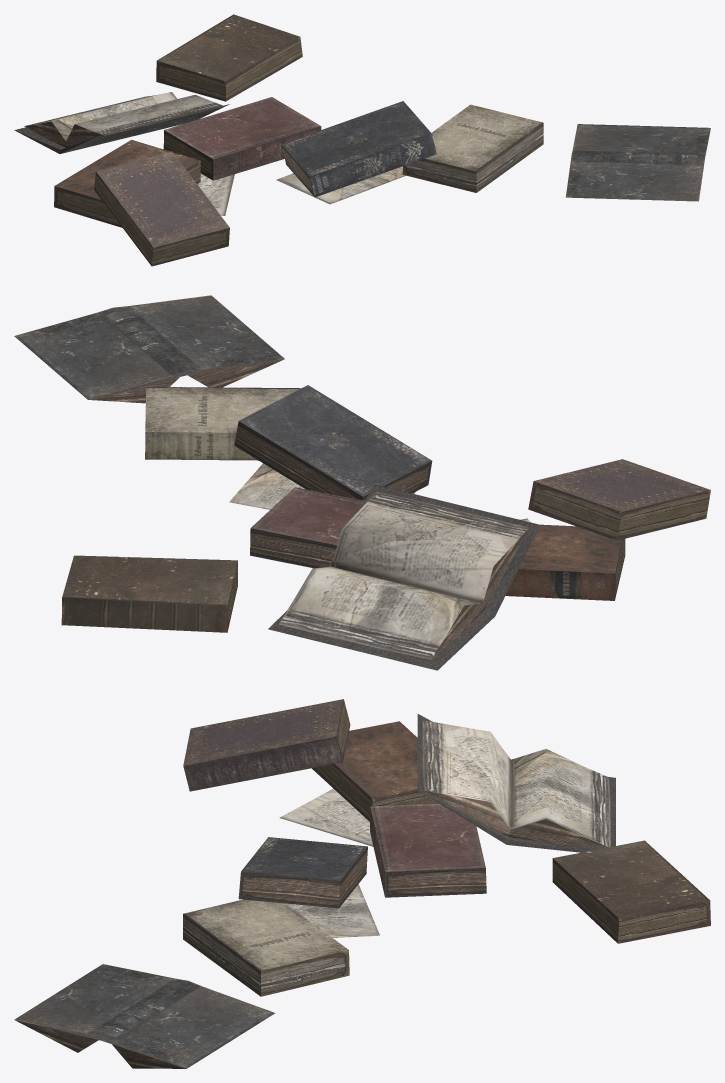
The model's file is p_glo_books_pile_lod1.glb.
3 renders of one model, top to bottom at view 1: azimuth 30°, elevation 25°; view 2: azimuth 150°, elevation 25°; view 3: azimuth 270°, elevation 25°, orthographic. The views are drawn at different scales.
Visible parts, largest first — view 1: surf0; view 2: surf0; view 3: surf0.
Boxes of the visible parts, x1,y1,x2,y2 form: surf0: (14,14,710,266); surf0: (14,295,710,670); surf0: (14,699,710,1068).
Bounding box in the file's own units: 59.01 × 6.3 × 52.67.
